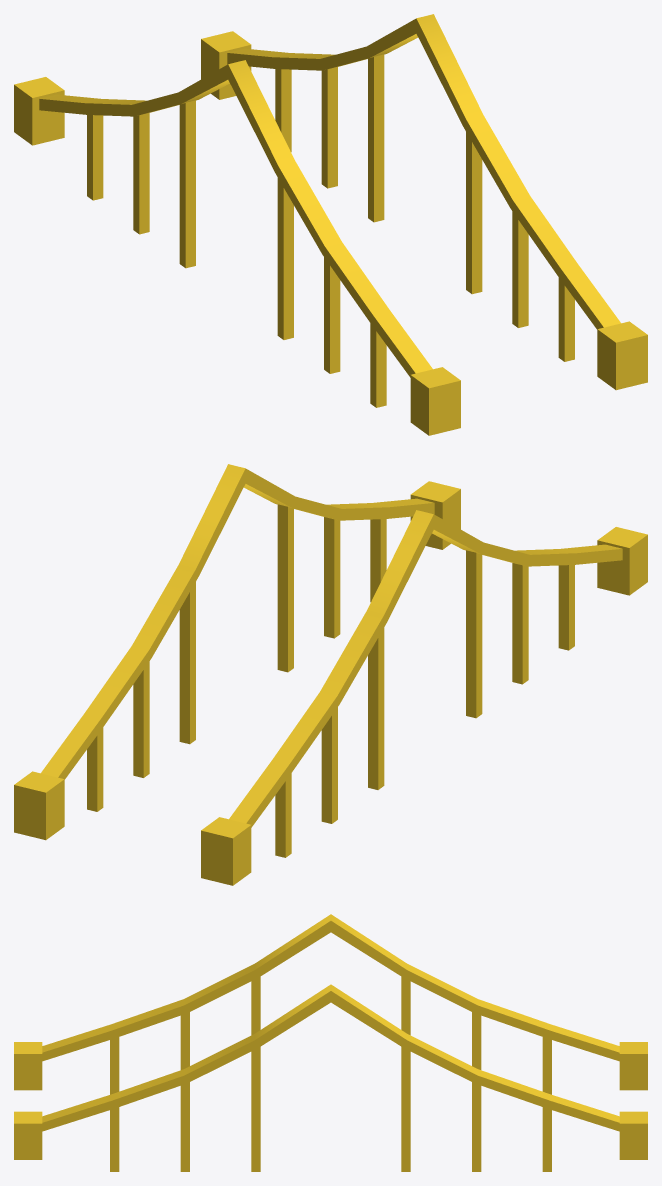
Rendered from bridge_part_03_s02.FBX.
3 renders of one model, top to bottom at view 1: azimuth 30°, elevation 25°; view 2: azimuth 150°, elevation 25°; view 3: azimuth 270°, elevation 25°, orthographic. The views are drawn at different scales.
Visible parts, largest first — view 1: bridge_part_03_s02; view 2: bridge_part_03_s02; view 3: bridge_part_03_s02.
Boxes of the visible parts, x1,y1,x2,y2 form: bridge_part_03_s02: (14,14,647,435); bridge_part_03_s02: (14,464,647,885); bridge_part_03_s02: (14,914,647,1171).
Size of the model in its own units: 638 by 2093 by 664.
1 material, 1 textured.
